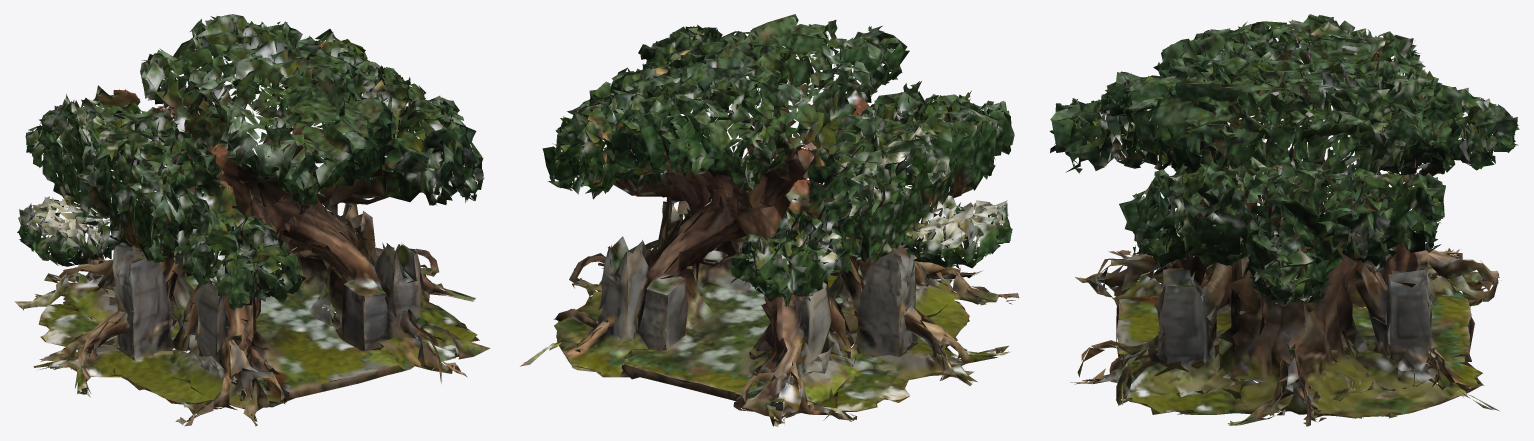
Rendered from F3D_01_AncientTree.fbx.
3 views of the same model, side by side, from view 1: azimuth 30°, elevation 25°; view 2: azimuth 150°, elevation 25°; view 3: azimuth 270°, elevation 25° (orthographic). The views are drawn at different scales.
Visible parts, largest first — view 1: F3D_01_AncientTree; view 2: F3D_01_AncientTree; view 3: F3D_01_AncientTree.
Part boxes in pixels (bbox=[...]): F3D_01_AncientTree: bbox=[14, 14, 490, 426]; F3D_01_AncientTree: bbox=[520, 14, 1019, 426]; F3D_01_AncientTree: bbox=[1049, 14, 1519, 426].
Bounding box in the file's own units: 1.59 × 1.01 × 1.47.
